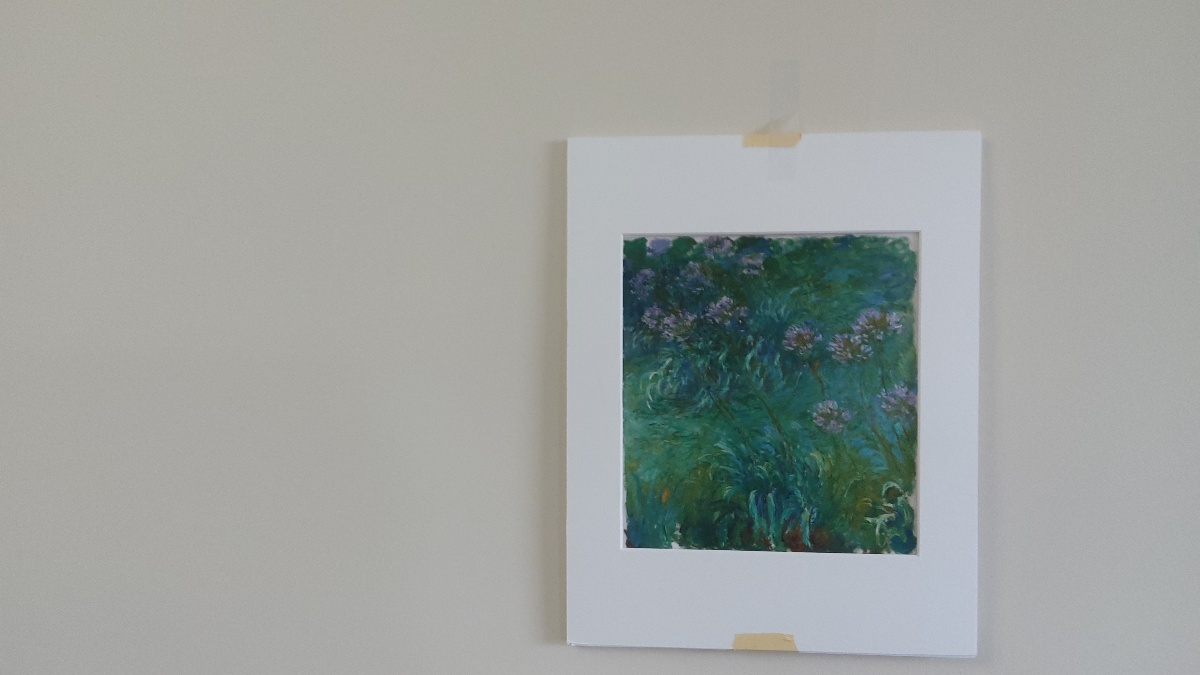painting: (611, 228, 928, 562)
